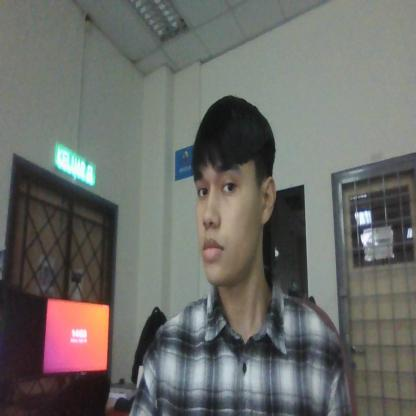Open-Eyes: (193, 169, 246, 213)
